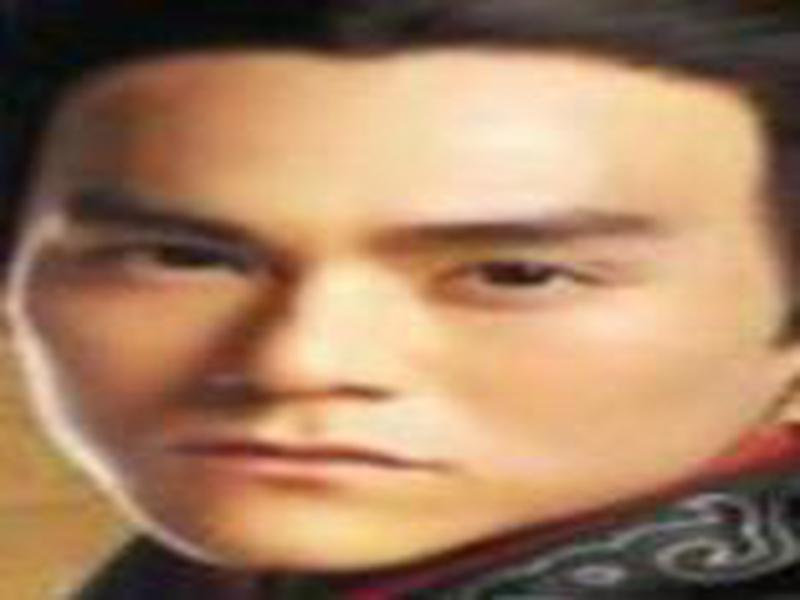without_mask: (19, 48, 782, 572)
